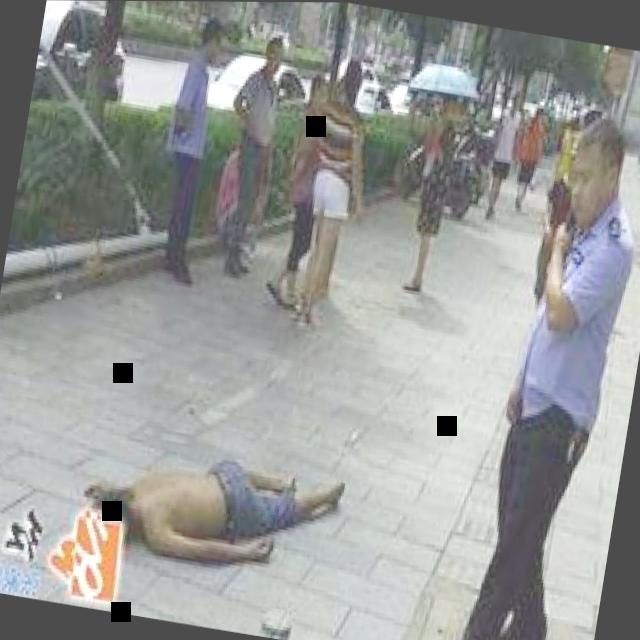Fall-Detected: (78, 399, 369, 596)
